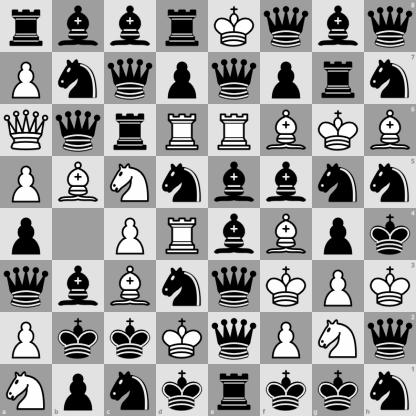B: (364, 104, 416, 156), (53, 157, 104, 208), (105, 261, 156, 312), (261, 105, 312, 156), (261, 209, 312, 260)
K: (364, 260, 416, 312), (157, 313, 208, 364), (209, 1, 260, 52), (261, 261, 312, 312), (313, 105, 364, 156)
N: (0, 364, 52, 416), (105, 157, 156, 208), (313, 313, 364, 364)
P: (1, 53, 52, 104), (1, 157, 52, 208), (1, 313, 52, 364), (105, 209, 156, 260), (261, 313, 312, 364), (313, 261, 364, 312)
Q: (1, 105, 52, 156)
R: (157, 105, 208, 156), (157, 209, 208, 260), (209, 105, 260, 156)
b: (53, 1, 104, 52), (53, 261, 104, 312), (105, 1, 156, 52), (209, 157, 260, 208), (209, 209, 260, 260), (261, 157, 312, 208), (313, 1, 364, 52)
board: (0, 0, 415, 415)
k: (156, 364, 209, 416), (260, 364, 312, 416), (312, 364, 364, 416), (364, 209, 416, 260), (53, 313, 104, 364), (105, 313, 156, 364)
n: (364, 156, 416, 209), (104, 364, 156, 416), (364, 52, 416, 104), (364, 364, 416, 416), (53, 53, 104, 104), (157, 157, 208, 208), (157, 261, 208, 312), (313, 157, 364, 208)
p: (52, 364, 104, 416), (1, 209, 52, 260), (157, 53, 208, 104), (261, 53, 312, 104), (313, 209, 364, 260)
q: (364, 0, 416, 52), (364, 312, 416, 364), (1, 261, 52, 312), (53, 105, 104, 156), (105, 53, 156, 104), (209, 53, 260, 104), (209, 261, 260, 312), (209, 313, 260, 364), (261, 1, 312, 52)
r: (209, 364, 260, 416), (1, 1, 52, 52), (105, 105, 156, 156), (157, 1, 208, 52), (313, 53, 364, 104)
